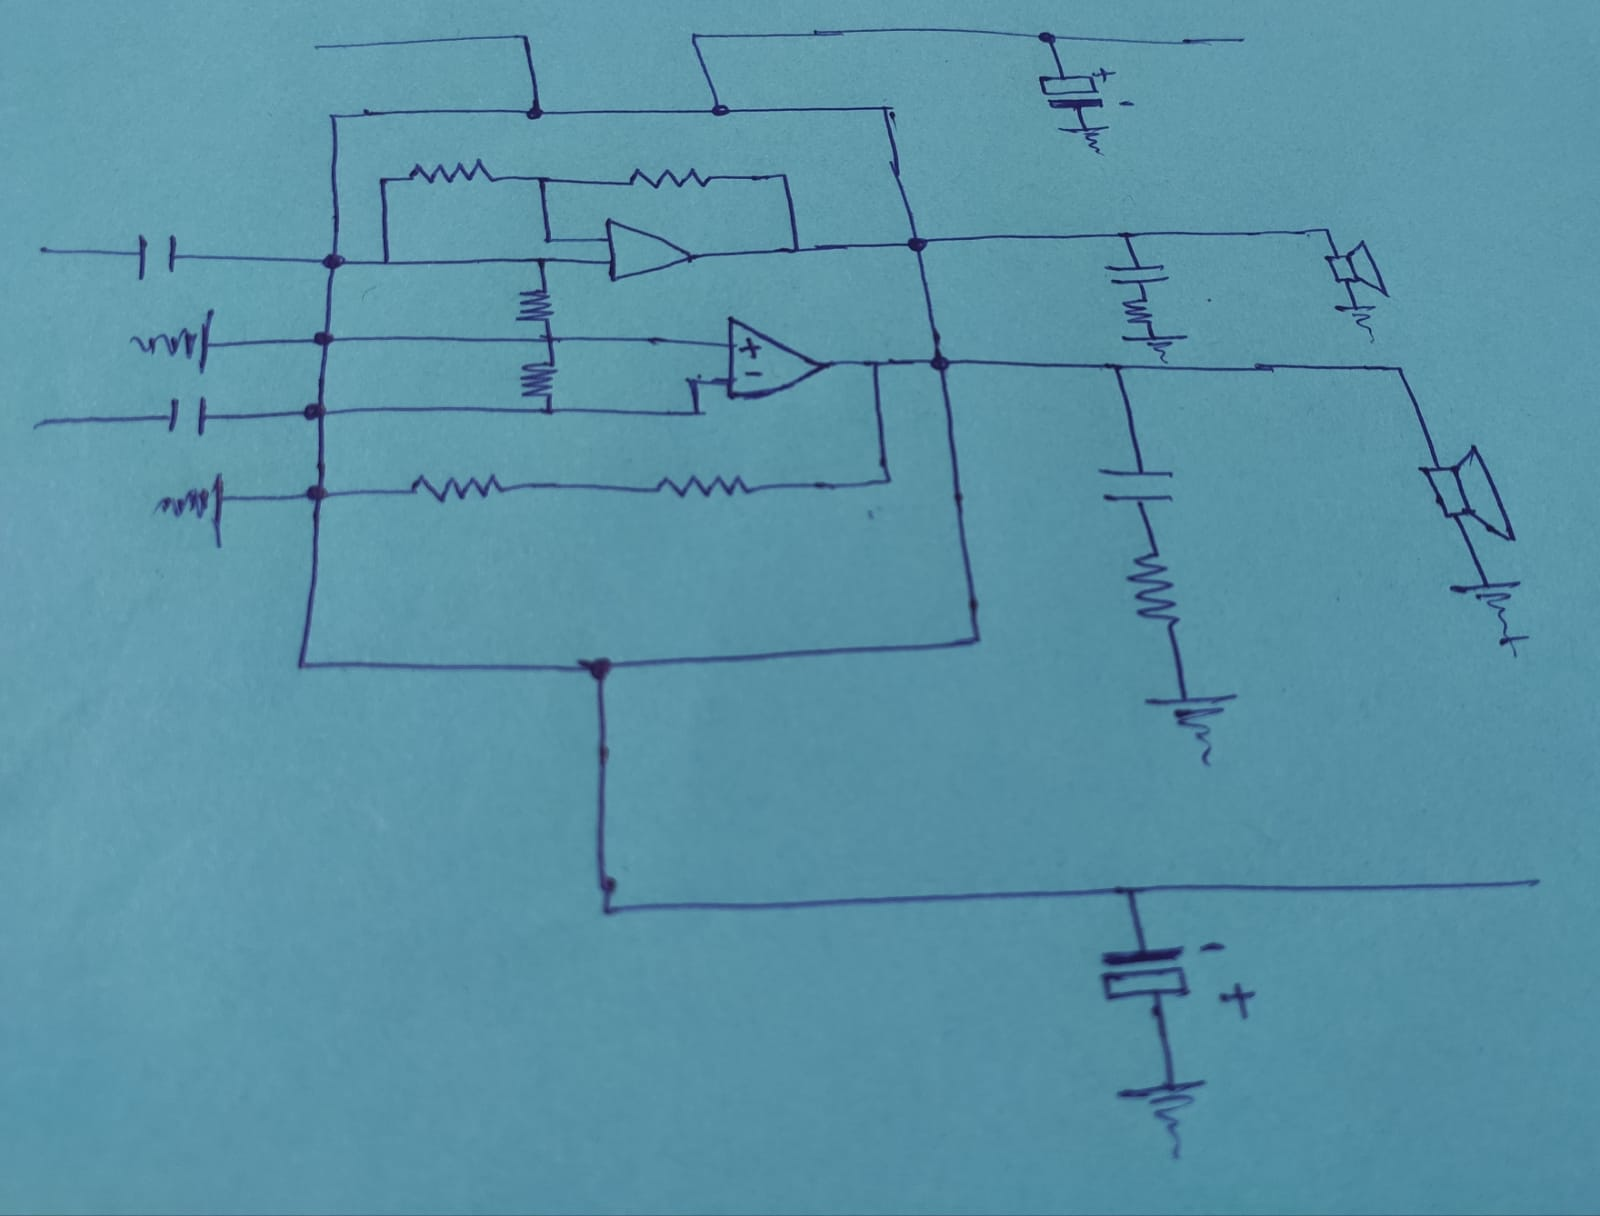capacitor.polarized: (1099, 940, 1251, 1021), (1039, 65, 1136, 112)
capacitor.unpolarized: (1101, 466, 1175, 508), (128, 232, 184, 280), (162, 391, 211, 439), (1105, 255, 1168, 289)
gnd: (1451, 576, 1532, 660), (1120, 1078, 1204, 1160), (1145, 688, 1237, 763), (155, 470, 230, 549), (128, 309, 220, 370), (1336, 298, 1378, 344), (1062, 119, 1112, 156), (1128, 333, 1182, 361)
junction: (299, 393, 341, 428), (589, 892, 627, 929), (577, 654, 619, 683), (303, 324, 343, 354), (317, 241, 351, 275), (956, 623, 993, 654), (1098, 353, 1138, 379), (303, 476, 335, 510), (898, 230, 936, 257), (923, 347, 958, 376), (1117, 874, 1147, 906), (518, 98, 554, 123), (1030, 24, 1068, 47), (702, 98, 736, 123), (863, 353, 889, 379), (289, 650, 314, 676), (877, 467, 904, 492), (678, 372, 706, 393), (539, 330, 563, 353), (875, 100, 899, 123), (686, 402, 711, 423), (531, 253, 554, 275), (540, 400, 561, 424), (377, 252, 398, 273), (515, 27, 536, 47), (787, 240, 807, 261), (1116, 225, 1136, 245), (1389, 360, 1408, 379), (375, 171, 393, 192), (1318, 224, 1338, 241), (684, 28, 706, 45), (774, 169, 793, 186), (532, 172, 552, 190), (324, 110, 343, 126), (541, 231, 559, 248)
operational_amplifier: (719, 308, 833, 404), (598, 218, 704, 286)
resistor: (1128, 545, 1184, 634), (647, 466, 756, 502), (507, 275, 568, 336), (414, 466, 507, 505), (518, 347, 573, 404), (404, 156, 495, 186), (623, 161, 711, 192), (1121, 293, 1156, 326)
speaker: (1420, 441, 1514, 543), (1323, 238, 1389, 293)
terminal: (1516, 867, 1550, 893), (26, 411, 57, 436), (29, 240, 61, 264), (305, 36, 335, 56), (1230, 29, 1253, 49)
